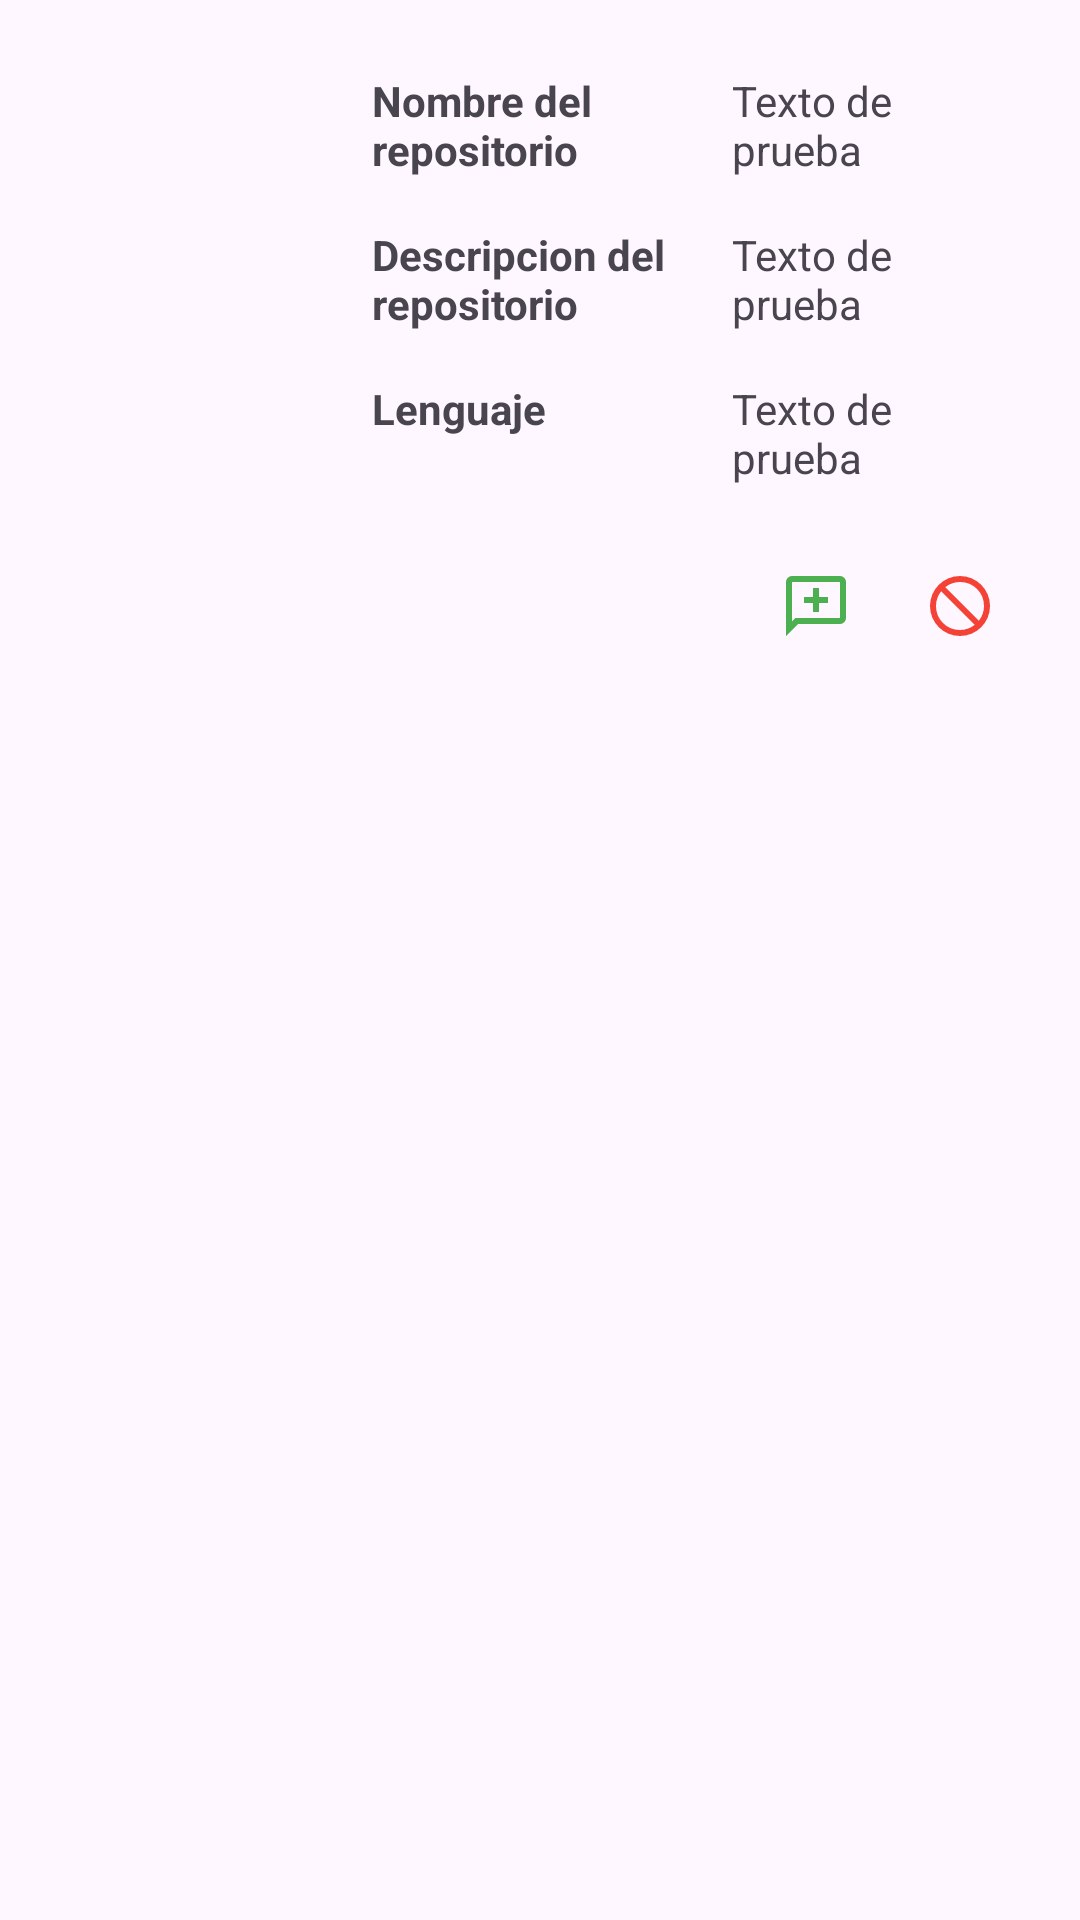

Named icons in this screenshot (1080×1920) and their bounding boxes, [x1,y1,x2,y2]:
Eliminar Repositorio: [930,576,990,636]
